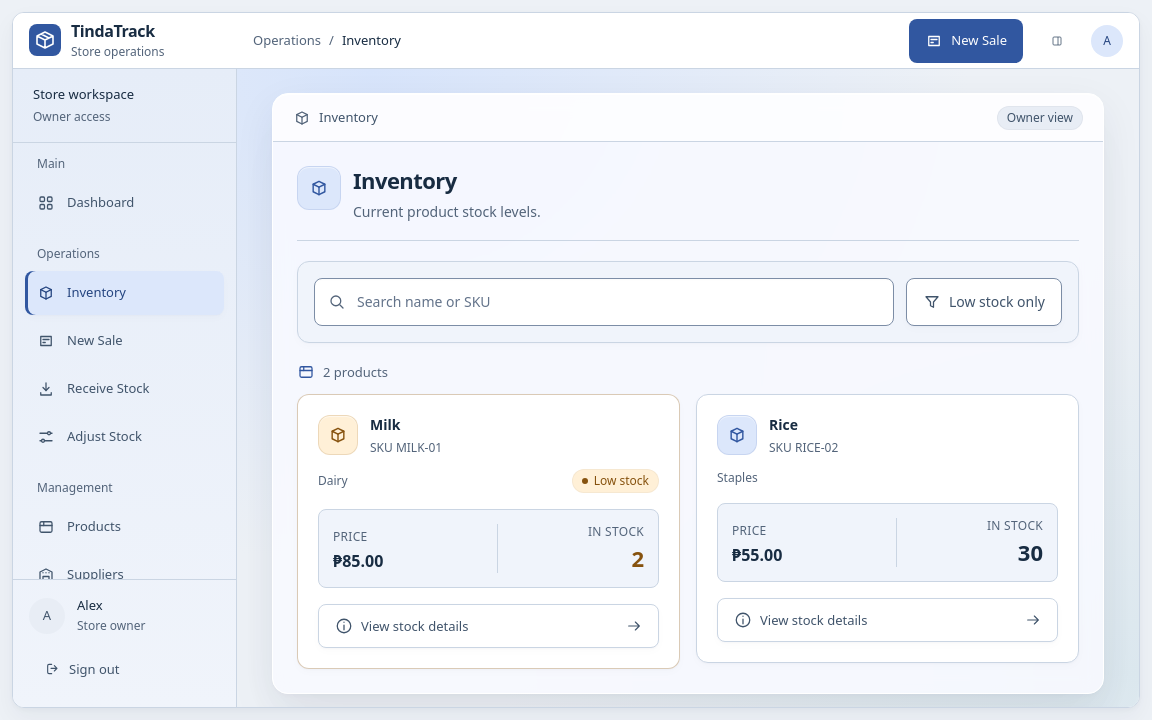
preserves inventory name/SKU search, the stock filter, and product detail selection
This screenshot has width=1152, height=720.
Type "  rice-02  " into the search field named "Search inventory" at (604, 302), box [314,278,894,326]
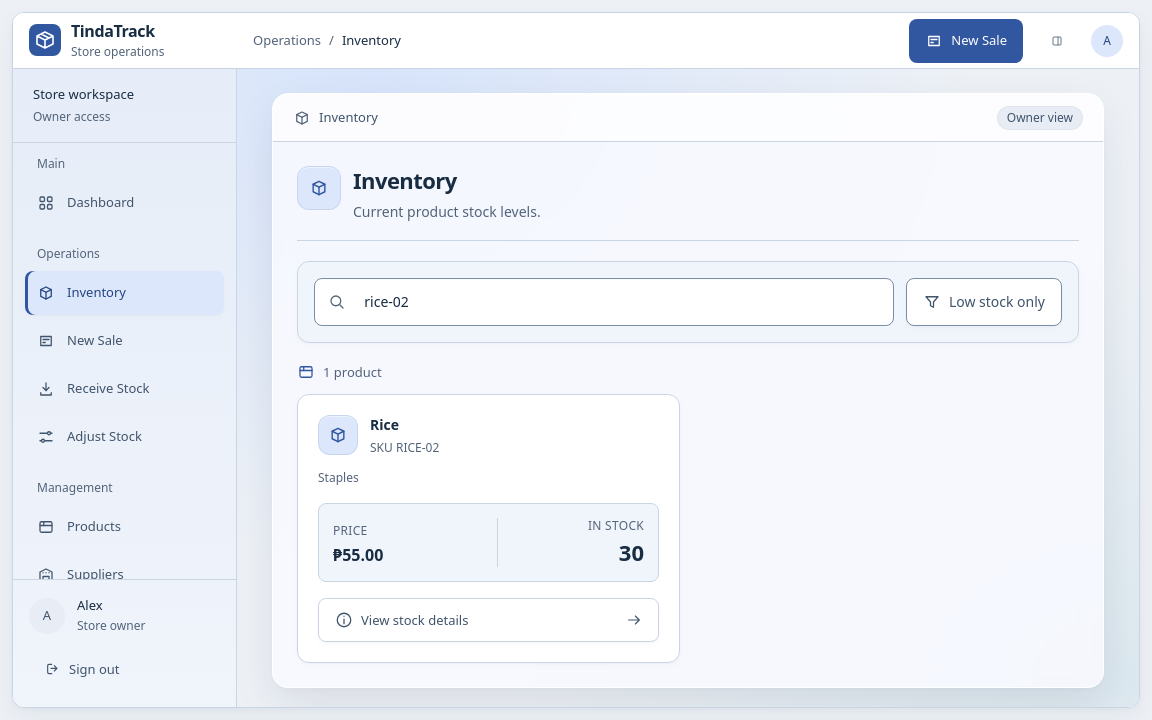
Expected: the heading "Rice" is shown, [370,414,399,434]
Expected: the heading "Milk" is gone
Clear the search field named "Search inventory" at (604, 302), box [314,278,894,326]
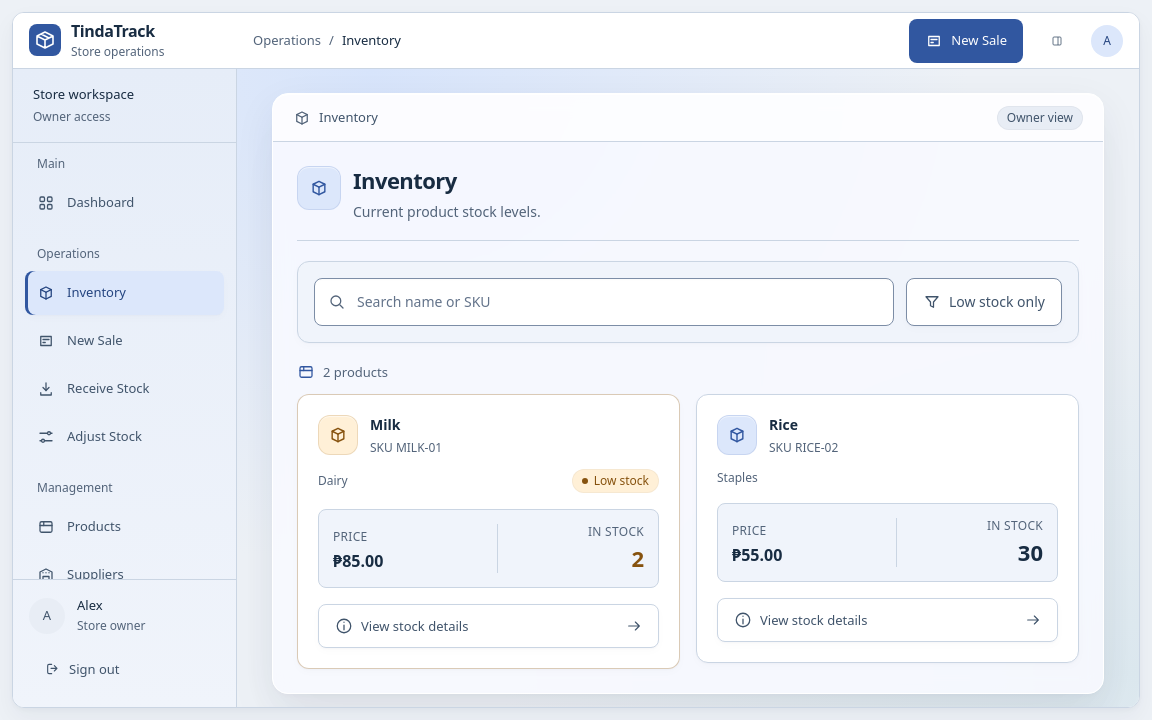
Click the button "Low stock only" at (984, 302), box [906,278,1062,326]
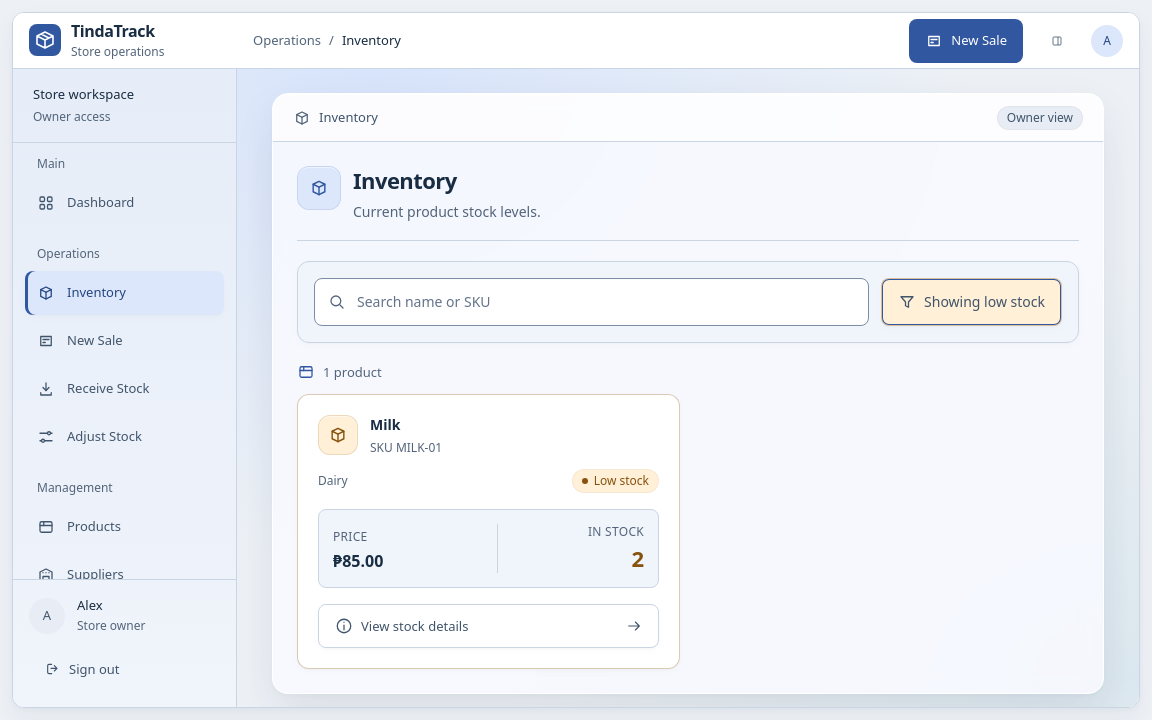
Expected: the button "Showing low stock" is pressed, [881,278,1062,326]
Click the button with aria-label "View stock details for Milk" at (415, 626), box [318,604,659,648]
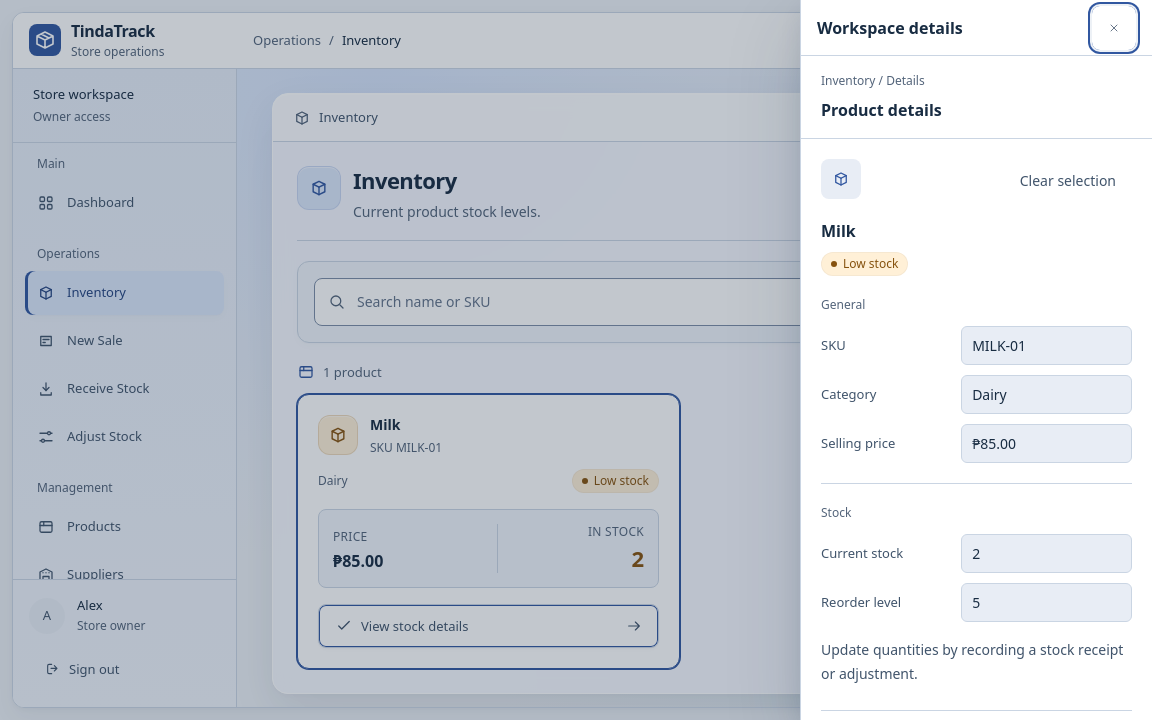
Expected: the heading "Milk" is shown, [821,220,856,242]
Expected: the text "MILK-01" is shown, [961,326,1132,365]
